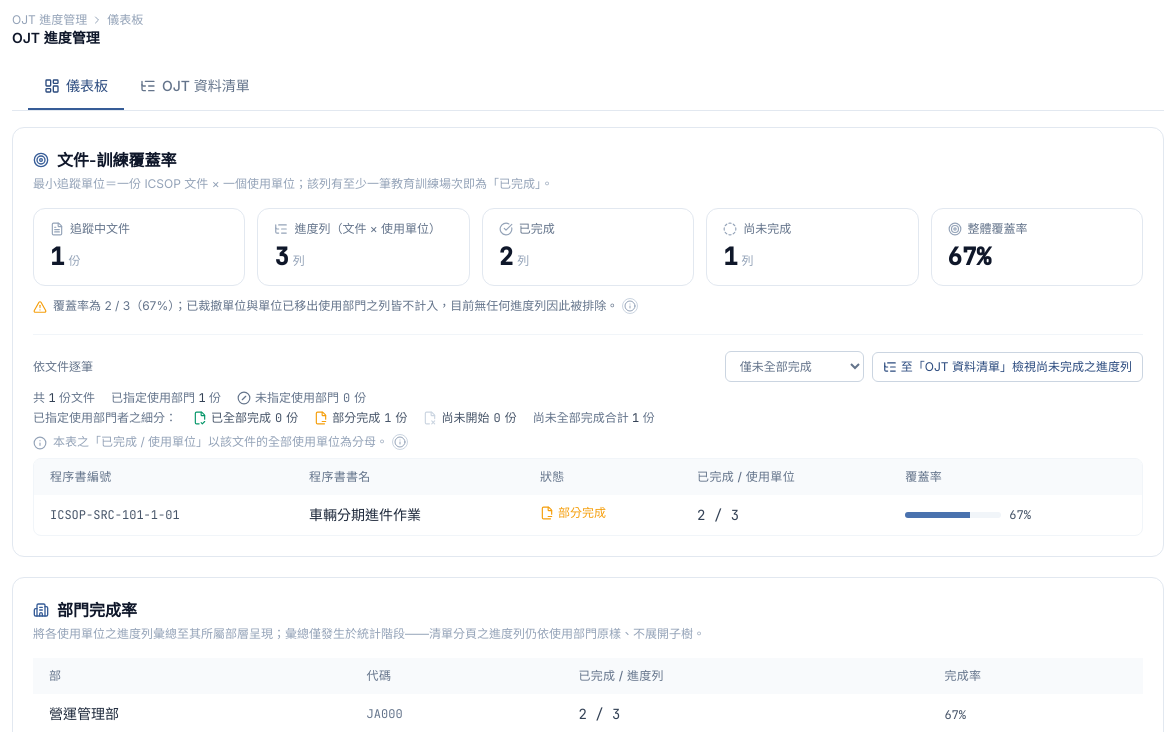
Test: OjtProgressPage — F042 OJT 進度管理（移植 prototype 25） › C. TAB2 單位分組清單 › AC-11 群組容器帶單位名稱／代碼；裁撤單位帶 [data-org-inactive]=「已裁撤」
expect the heading "文件-訓練覆蓋率" is shown: met, box [57, 148, 176, 172]
Click the tab "OJT 資料清單".
click(195, 87)  # box [124, 64, 266, 110]
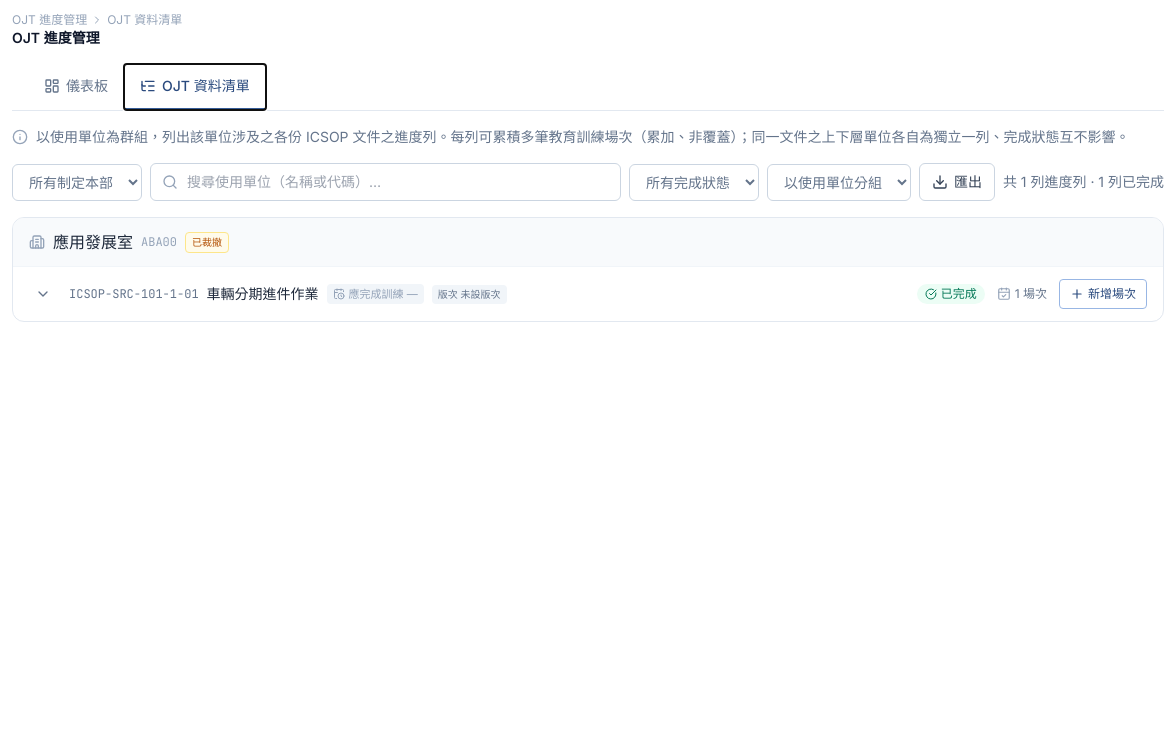
expect the element showing "匯出 共 1 列進度列 · 1 列已完成" is shown: met, box [12, 163, 1164, 201]
expect the element that starts with "應用發展室" is shown: met, box [12, 217, 1164, 322]
expect the text "應用發展室" is shown: met, box [53, 230, 133, 254]
